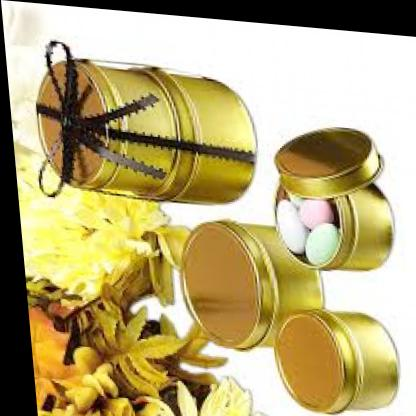Metal: (22, 28, 416, 416)
